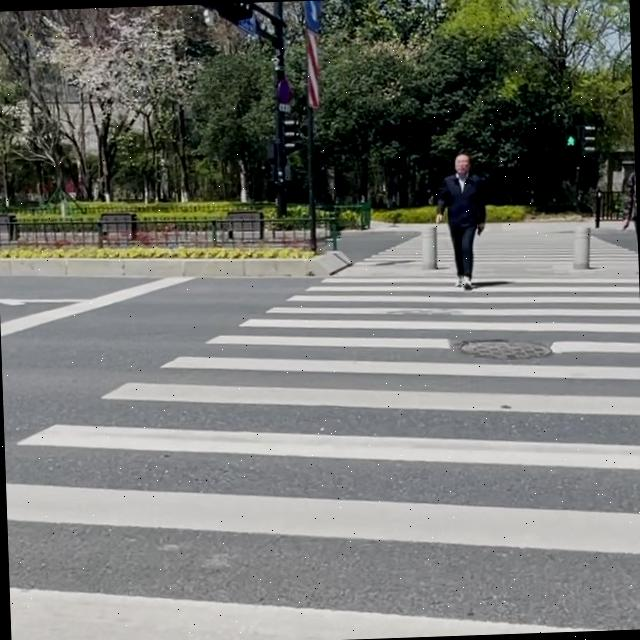curb: (0, 250, 351, 277)
